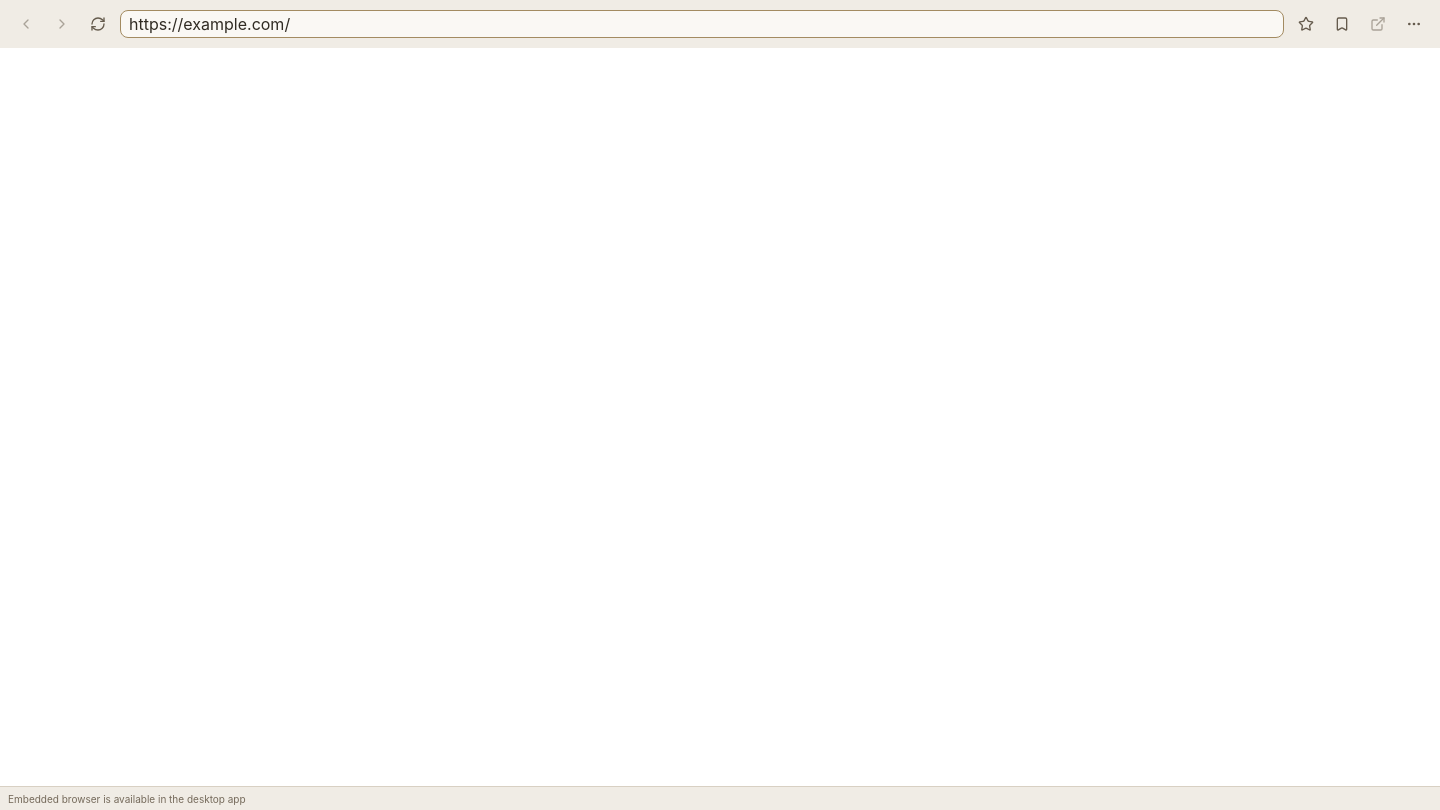
Test: normalizes the bookmark page after deleting the final page
Step 1. Click the button named "Bookmarks" → click(1342, 24), box [1328,10,1356,38]
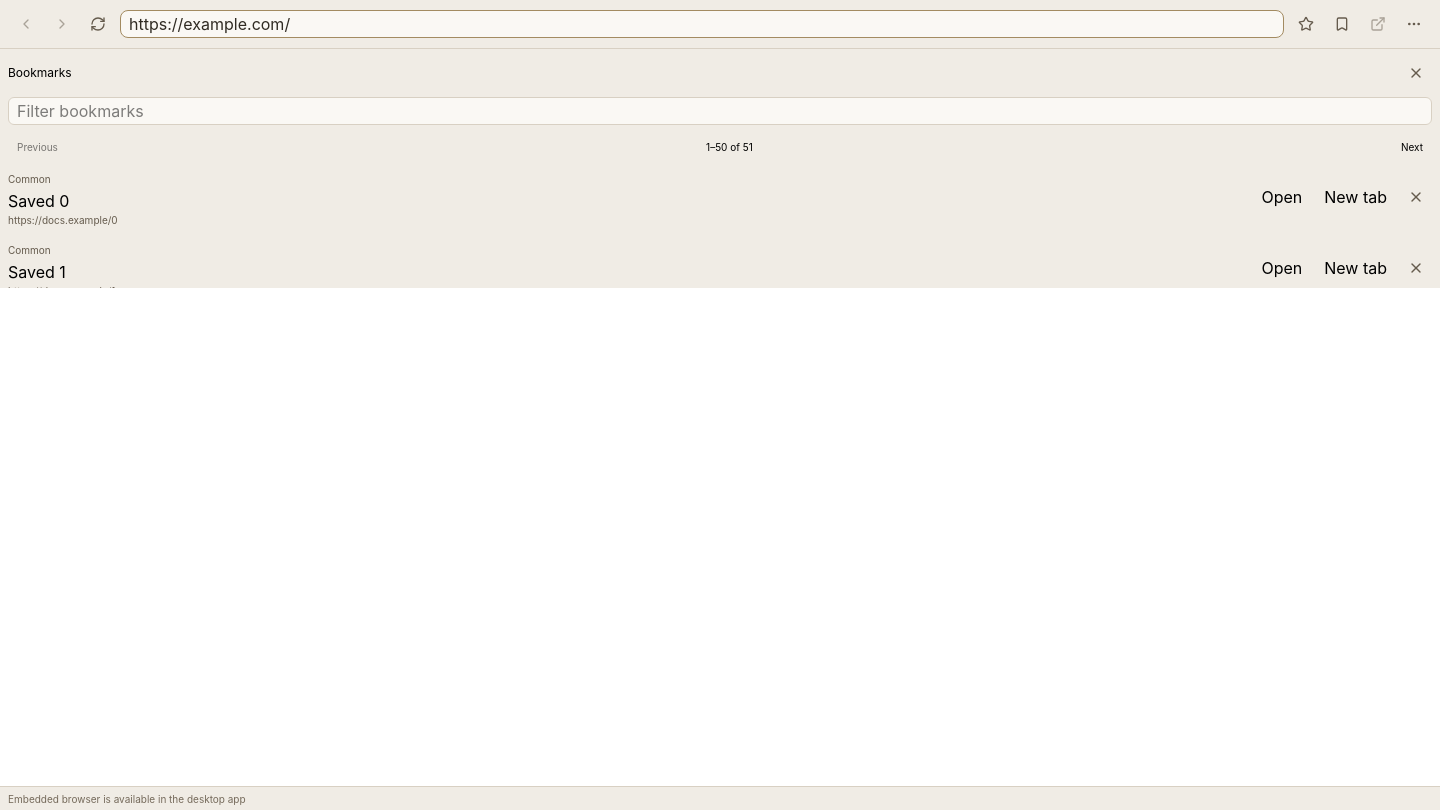
Step 2. Click the button "Next" → click(1412, 147), box [1392,133,1432,161]
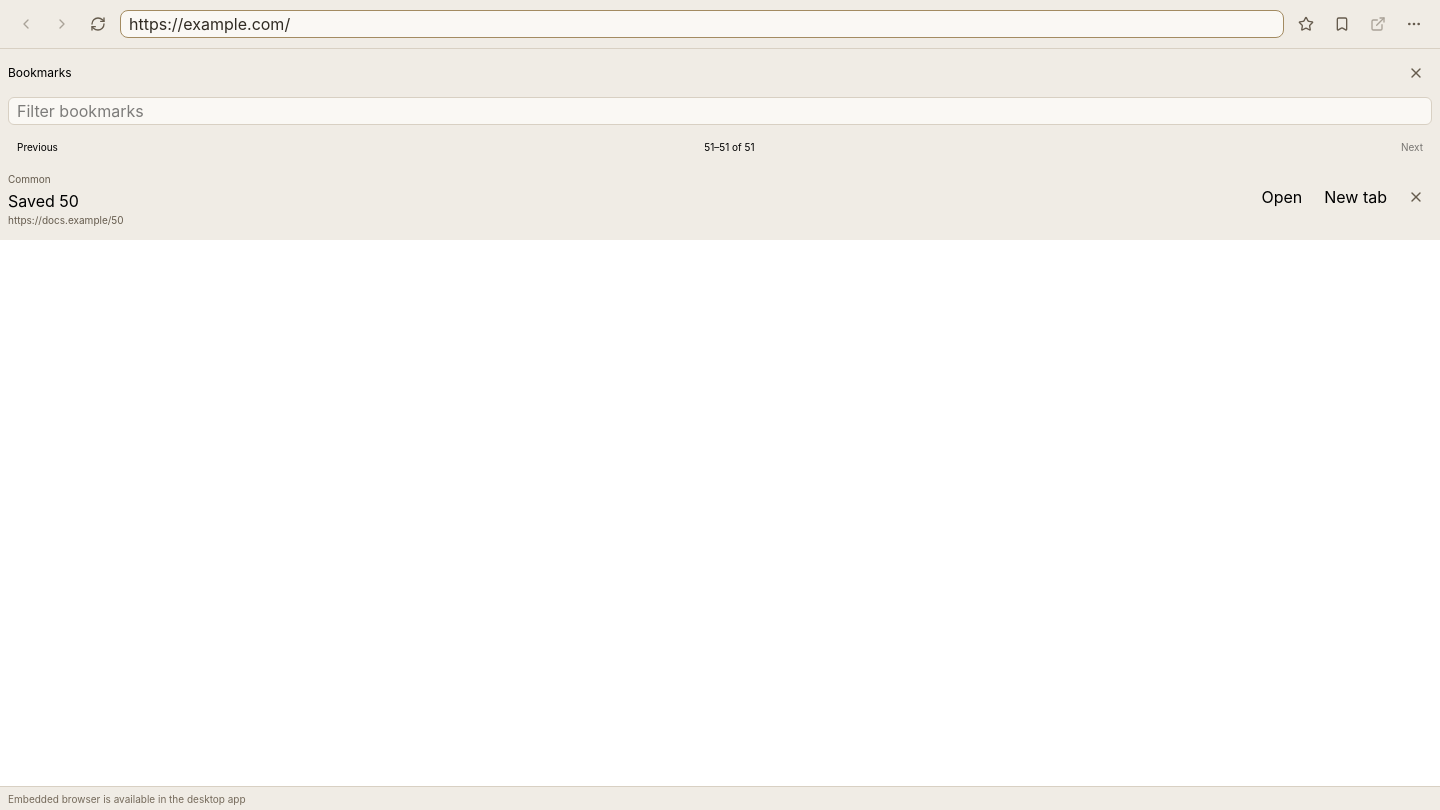
Step 3. Click the button named "Delete bookmark Saved 50" → click(1416, 196), box [1400,180,1432,212]
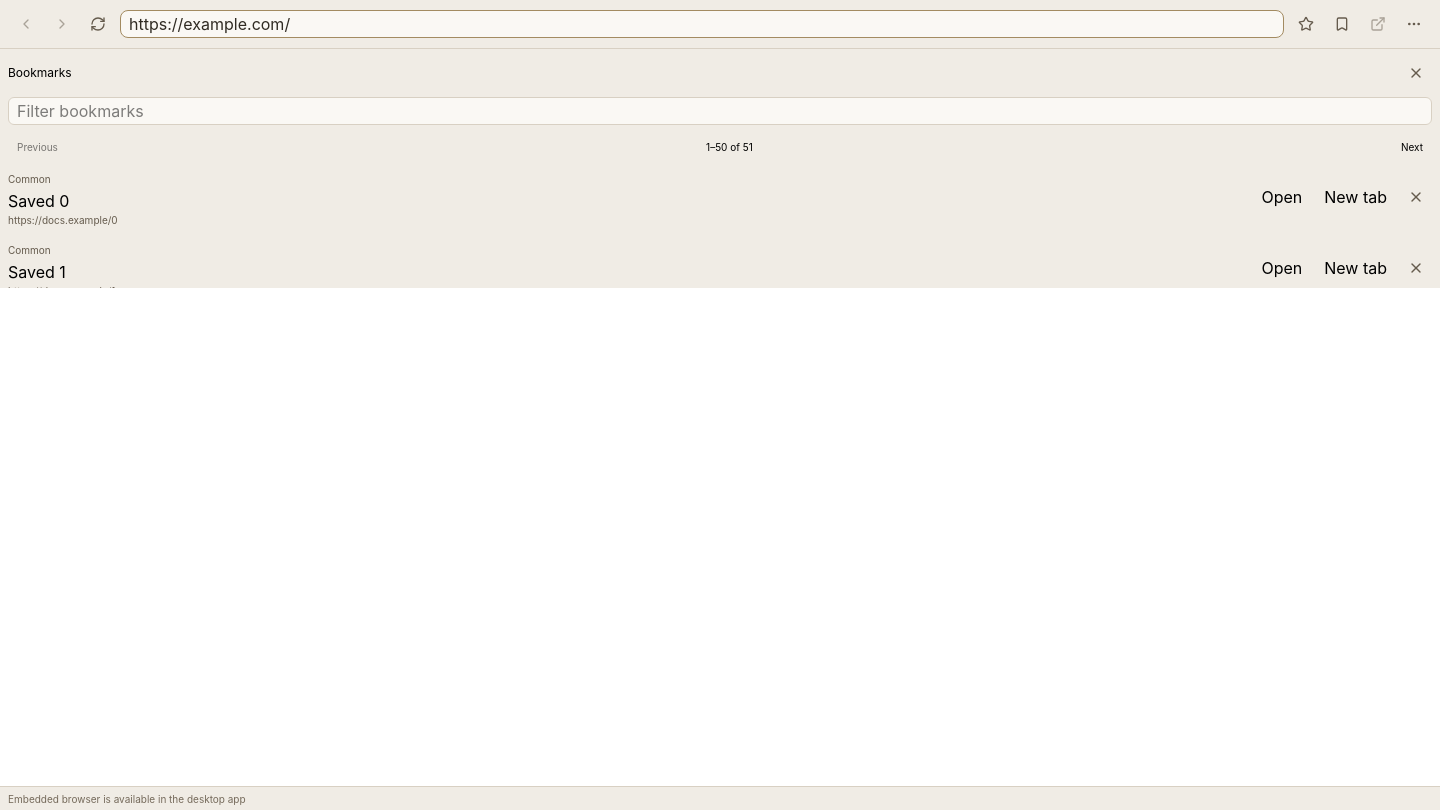
expect the button "Previous" is disabled: met, box [8,133,67,161]
expect the field named "Bookmark name for https://docs.example/0" is shown: met, box [8,189,1248,213]
